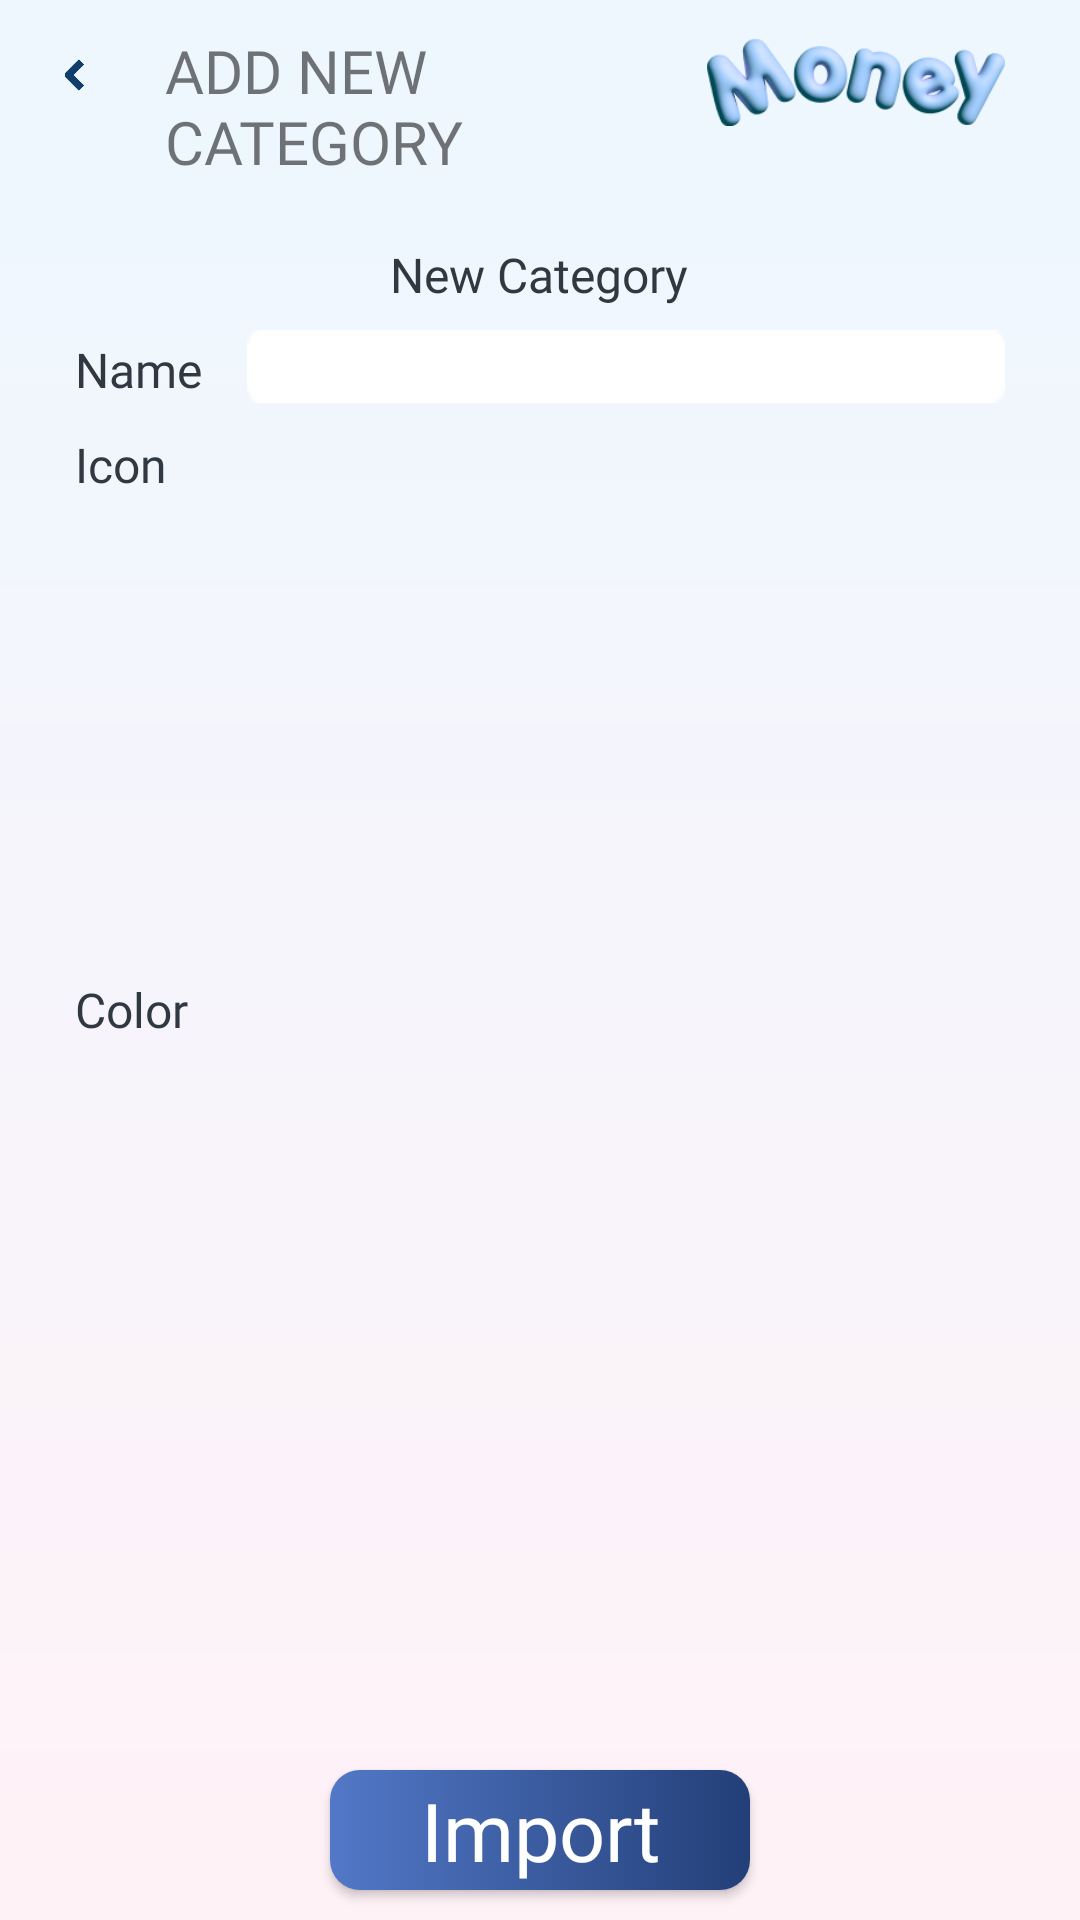

Icons on this 1080x1920 Android screen, each with the point to tap as point (x, y):
left forward: point (74, 75)
